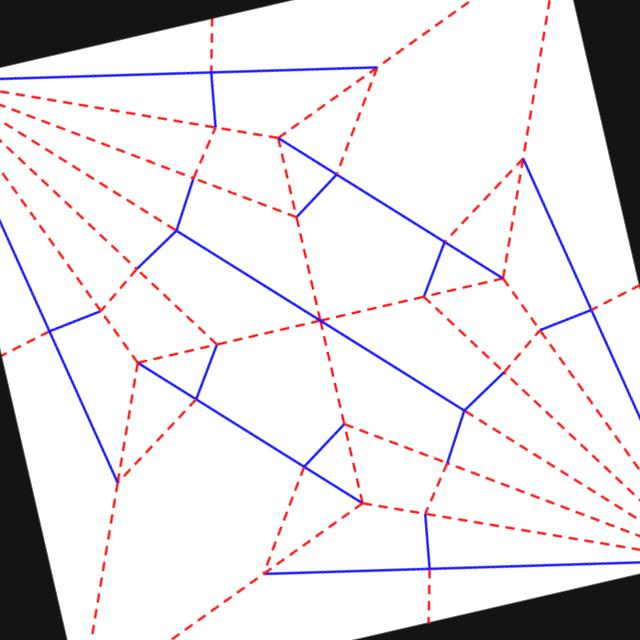fold-line: (156, 216, 467, 421), (425, 290, 639, 519), (257, 122, 520, 300), (337, 411, 639, 552), (0, 92, 303, 226), (128, 268, 514, 372), (513, 145, 639, 454), (125, 355, 367, 509), (270, 130, 368, 510), (261, 0, 498, 149), (492, 269, 639, 503), (0, 207, 126, 478), (456, 399, 639, 532), (0, 114, 190, 232), (0, 73, 295, 147), (342, 492, 639, 563), (0, 132, 142, 278), (492, 0, 557, 285), (82, 354, 142, 639), (262, 540, 639, 582), (0, 165, 104, 315), (0, 54, 378, 86), (431, 151, 528, 257), (252, 491, 365, 579), (159, 556, 271, 639), (109, 392, 206, 487), (127, 269, 219, 344), (254, 455, 312, 571), (331, 60, 381, 184), (443, 359, 510, 427), (125, 212, 187, 277), (194, 17, 225, 136), (91, 308, 146, 372), (409, 444, 451, 527), (89, 257, 145, 319), (492, 321, 546, 384), (170, 159, 212, 236), (431, 396, 471, 476), (289, 171, 348, 225), (180, 338, 219, 413), (528, 294, 592, 335), (184, 117, 223, 182), (0, 322, 61, 363), (38, 299, 106, 335), (582, 276, 639, 313), (410, 500, 435, 578), (411, 555, 434, 626)
